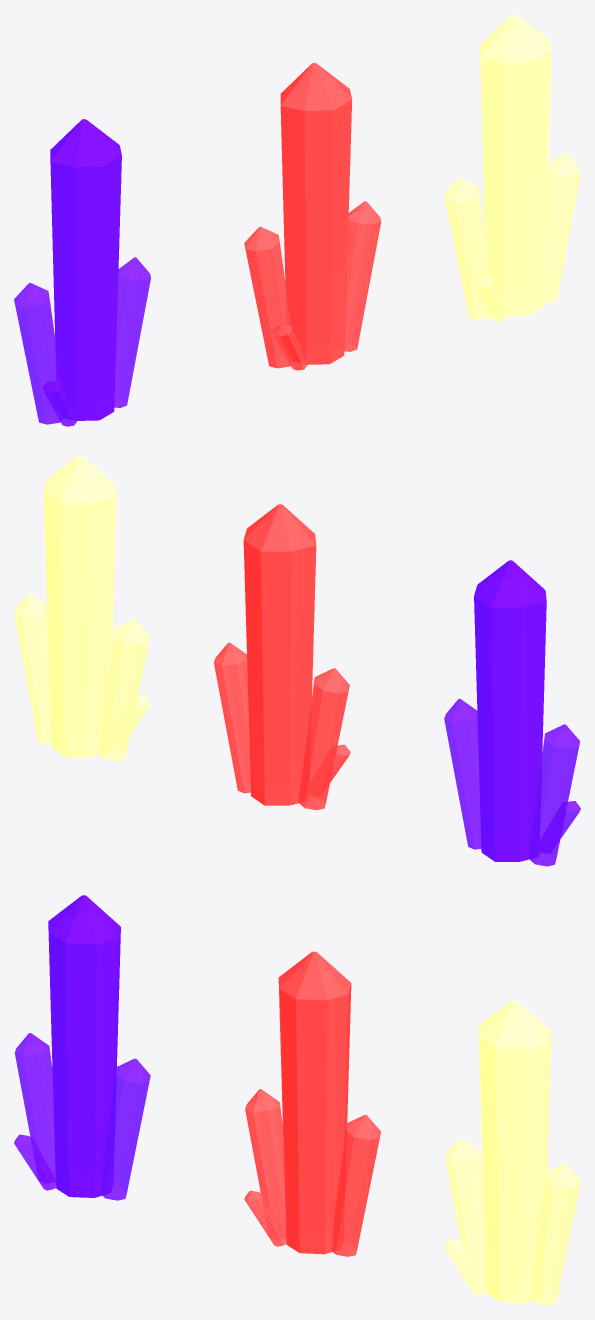
File: CrystalsColoured.fbx
3 views of the same model, one above another, from view 1: azimuth 30°, elevation 25°; view 2: azimuth 150°, elevation 25°; view 3: azimuth 330°, elevation 25° (orthographic).
Parts seen in each view (by area): view 1: redCrystal, blueCrystal, YellowCrystal; view 2: redCrystal, blueCrystal, YellowCrystal; view 3: redCrystal, blueCrystal, YellowCrystal.
Part boxes in pixels (x1,y1,x2,y2): redCrystal: (244, 63, 381, 370); blueCrystal: (14, 119, 150, 426); YellowCrystal: (444, 14, 580, 321); redCrystal: (214, 504, 350, 810); blueCrystal: (444, 560, 580, 866); YellowCrystal: (14, 455, 150, 761); redCrystal: (244, 951, 380, 1256); blueCrystal: (14, 895, 150, 1200); YellowCrystal: (444, 1000, 580, 1305).
Bounding box in the file's own units: 10.73 × 5.31 × 1.29.
